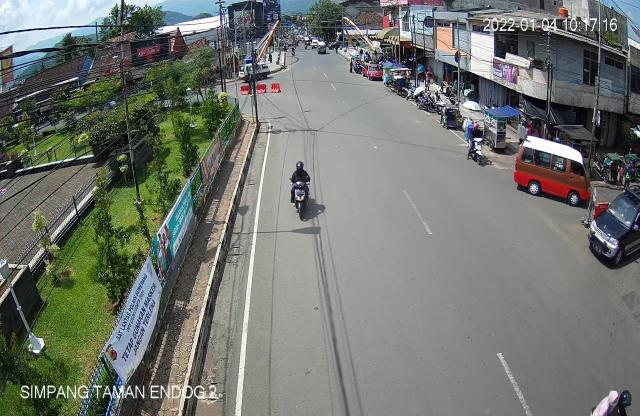Mobil: (514, 133, 594, 212), (588, 183, 640, 272)
Motor: (289, 161, 317, 221), (464, 121, 486, 166)
